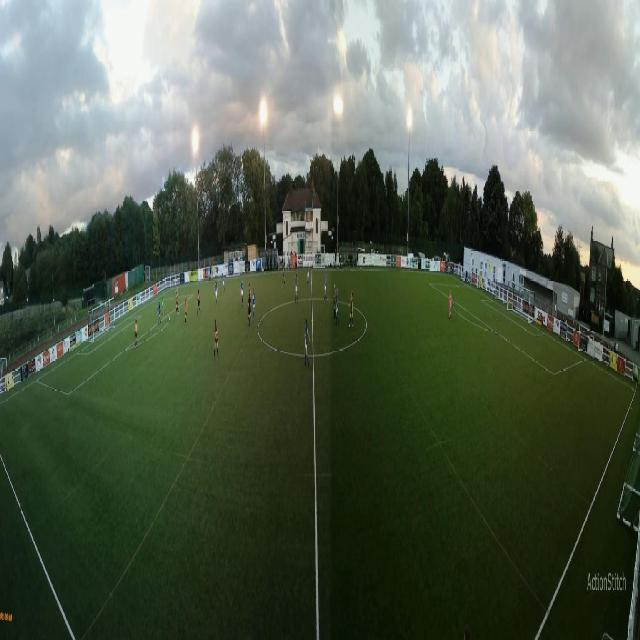ball: (164, 309, 166, 315)
player: (304, 318, 310, 368), (213, 319, 219, 359), (349, 292, 354, 328), (323, 271, 328, 303), (336, 289, 340, 327), (294, 275, 299, 304), (252, 289, 256, 321), (134, 319, 138, 350), (175, 286, 179, 316), (240, 277, 244, 307), (333, 282, 336, 322), (448, 290, 452, 319), (197, 290, 201, 317), (214, 281, 218, 307), (158, 301, 162, 326), (248, 294, 251, 326), (282, 264, 286, 288), (306, 263, 310, 287), (185, 298, 188, 326), (222, 274, 226, 293), (162, 294, 165, 316), (249, 283, 252, 304)
